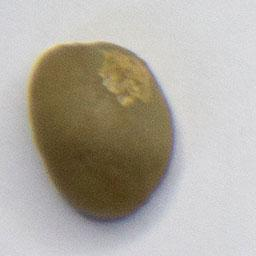premium: (25, 37, 181, 224)
